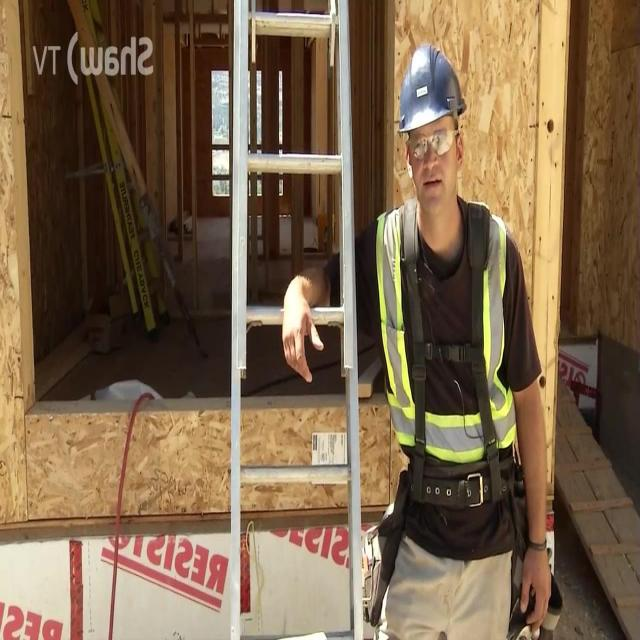Reflective-Jacket: (364, 199, 545, 529)
Safety-Helmet: (391, 36, 473, 143)
